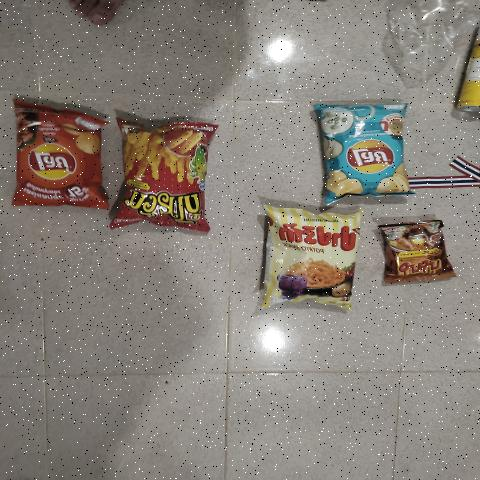lay_blue: (327, 106, 401, 197)
mama: (391, 224, 438, 277)
paprika: (275, 210, 352, 302)
twisco: (127, 126, 200, 224)
